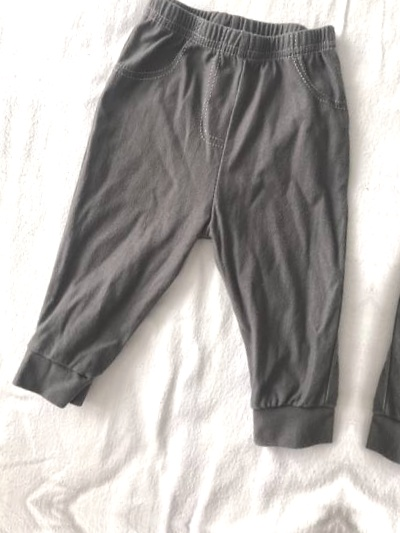Pants: (0, 0, 400, 460), (359, 17, 400, 514), (0, 0, 27, 405)
